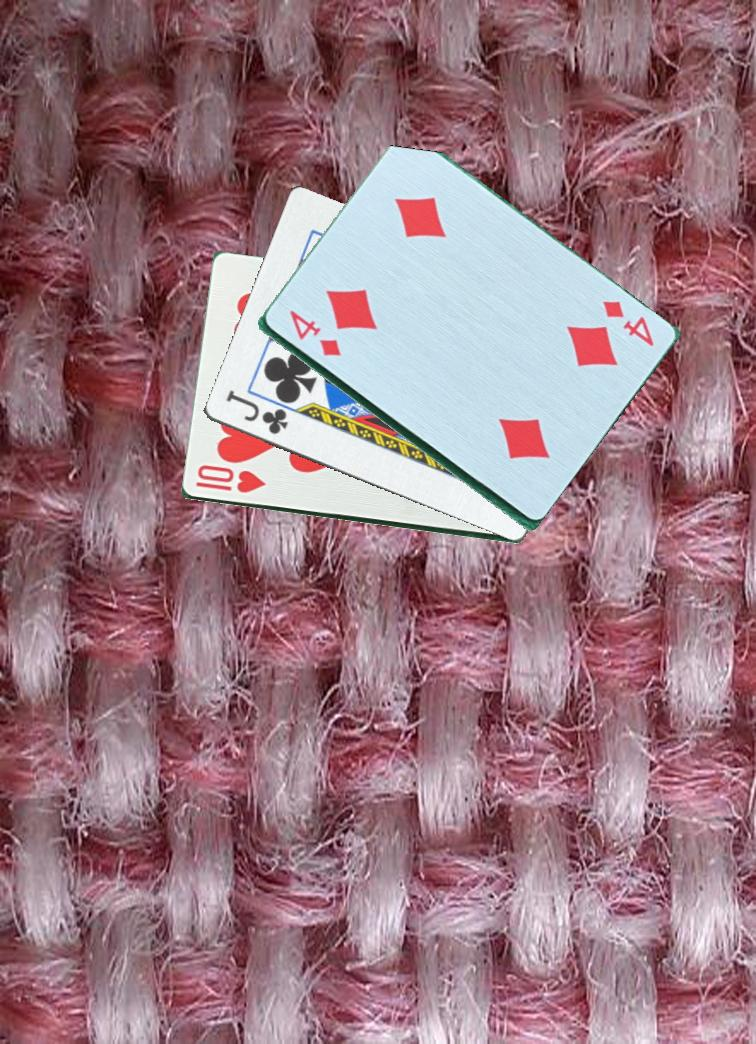4d: (597, 295, 657, 350), (285, 306, 344, 360)
jc: (221, 387, 291, 438)
th: (191, 462, 268, 497)
